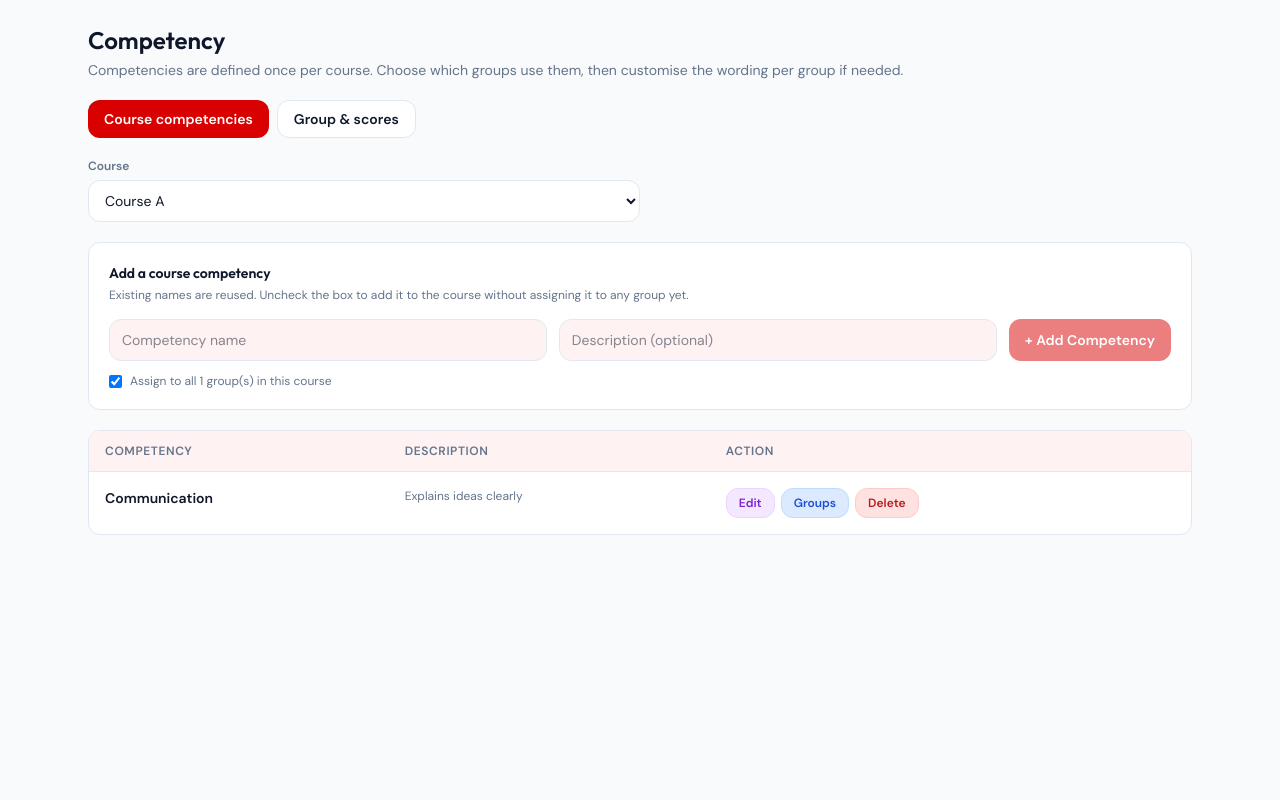
Test: TeacherCompetency - current UI › opens the Groups panel and loads group assignments
The image size is (1280, 800).
Step 1. Click the button "Groups" → (815, 503), box [781,488,849,518]
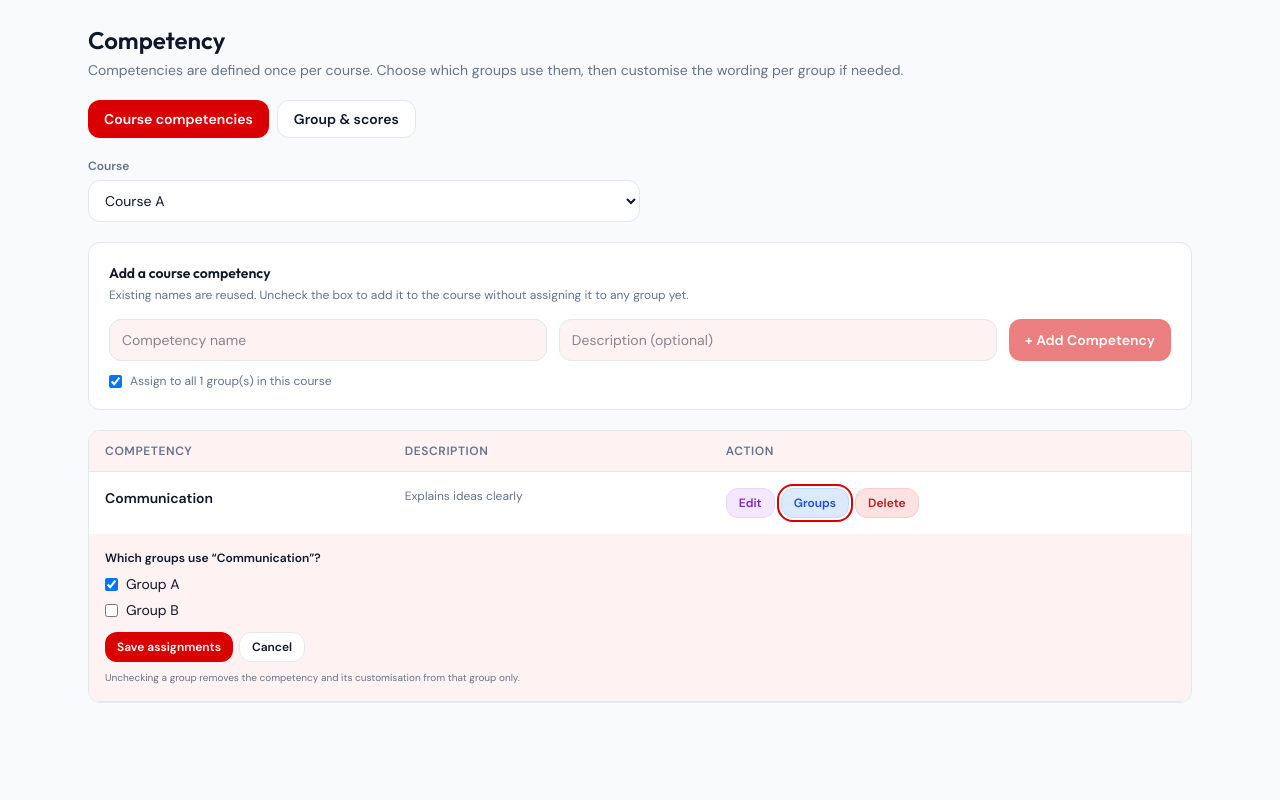
Check: the text "Which groups use “Communication”?" is shown, box [105,550,321,566]
Check: the text "Group A" is shown, box [105,575,180,593]
Check: the text "Group B" is shown, box [105,601,179,619]
